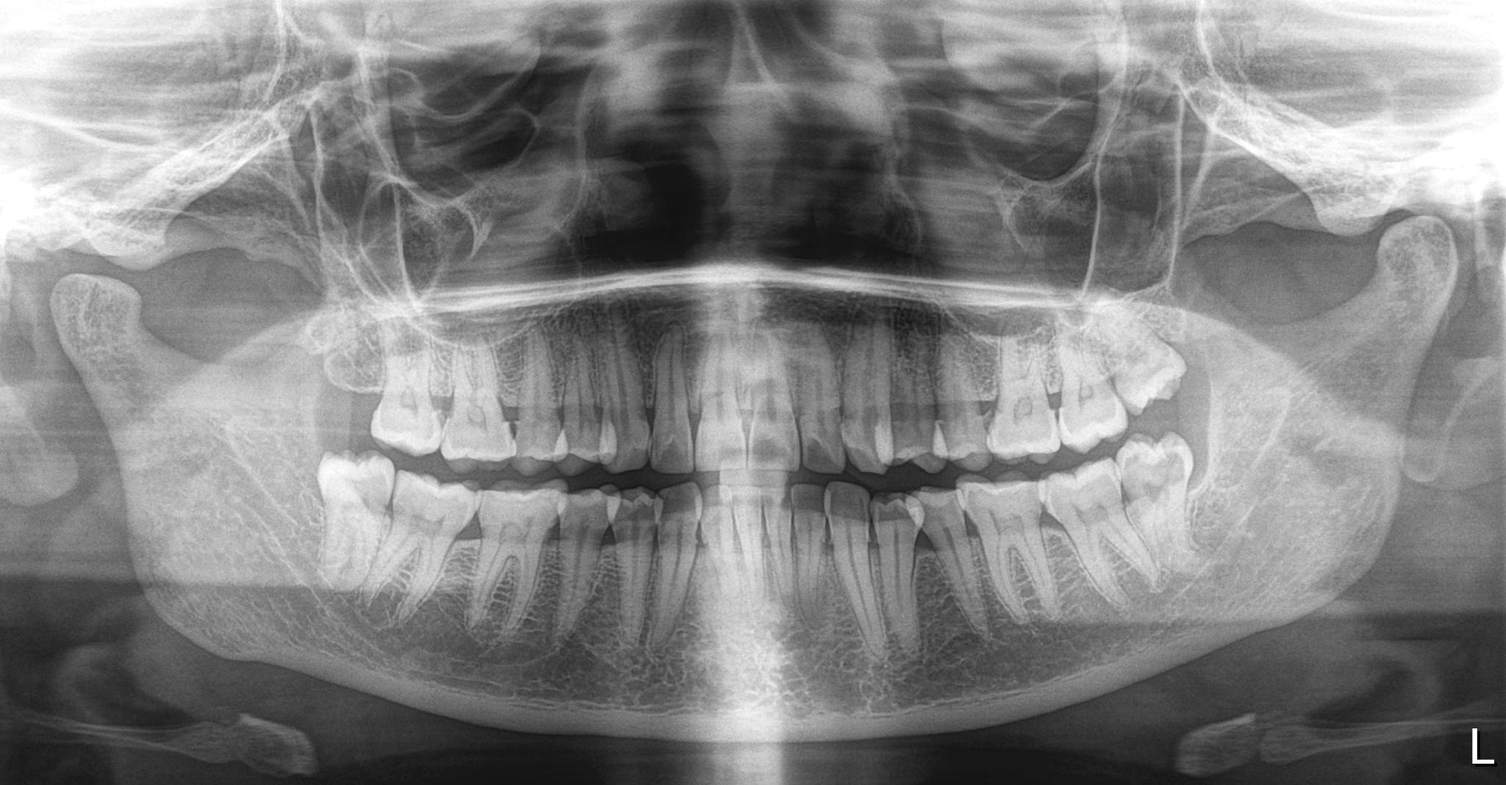Missing Tooth: (325, 333, 382, 438)
